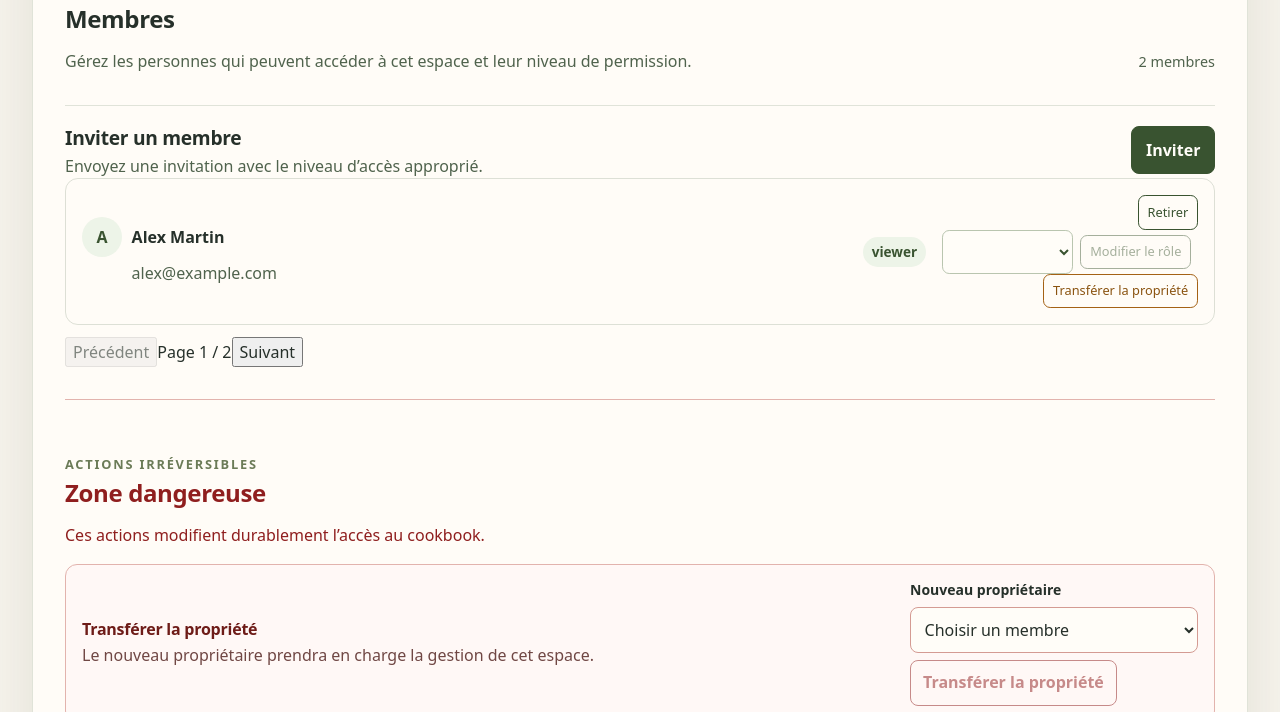
Test: CookbookView › shows member pagination and loads the next page
(page scrolled)
Expected: the navigation bar named "Pagination des membres" shows "Page 1 / 2", left=157, top=341, right=232, bottom=363
Click the button "Suivant" at (267, 352), box left=232, top=337, right=303, bottom=368
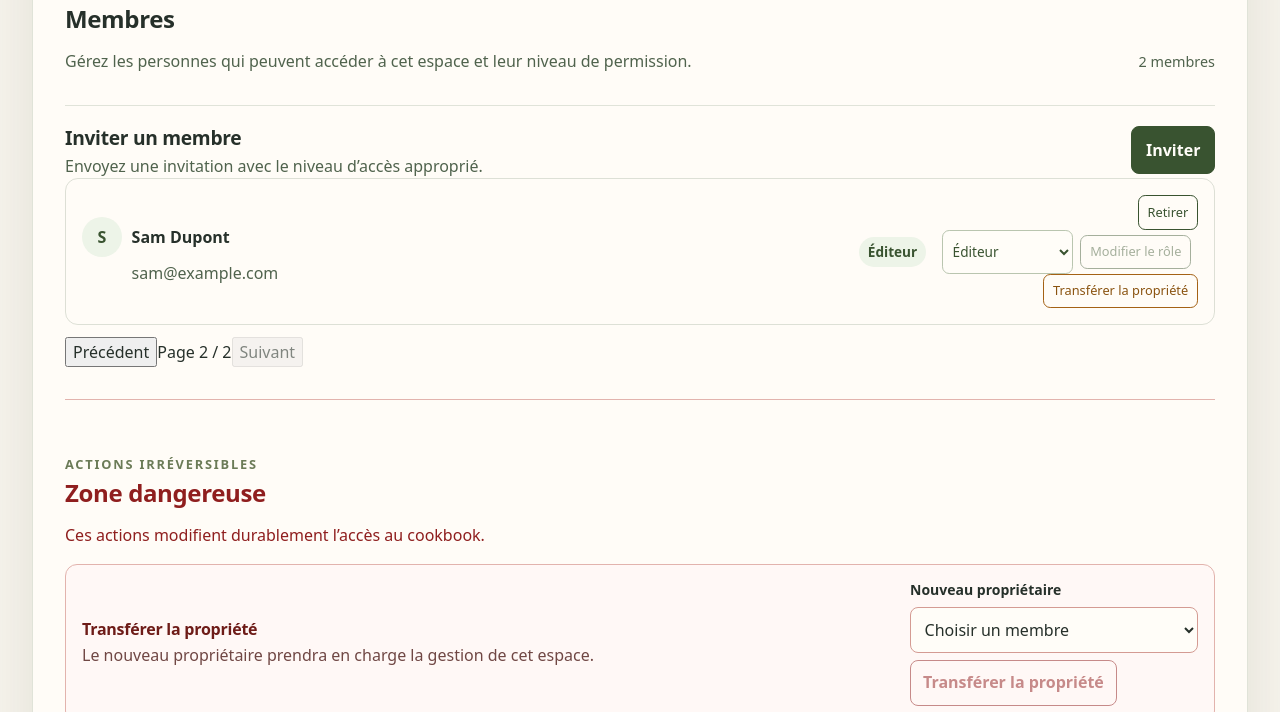
Expected: the text "Sam Dupont" is shown, left=132, top=226, right=230, bottom=248
